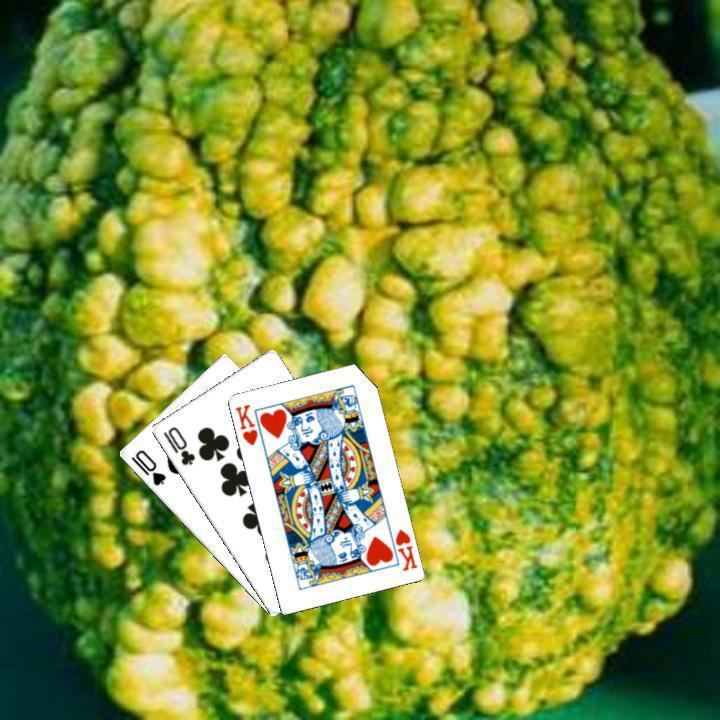10: (126, 445, 168, 488), (158, 422, 197, 467)
K: (230, 400, 260, 447), (390, 524, 418, 573)
